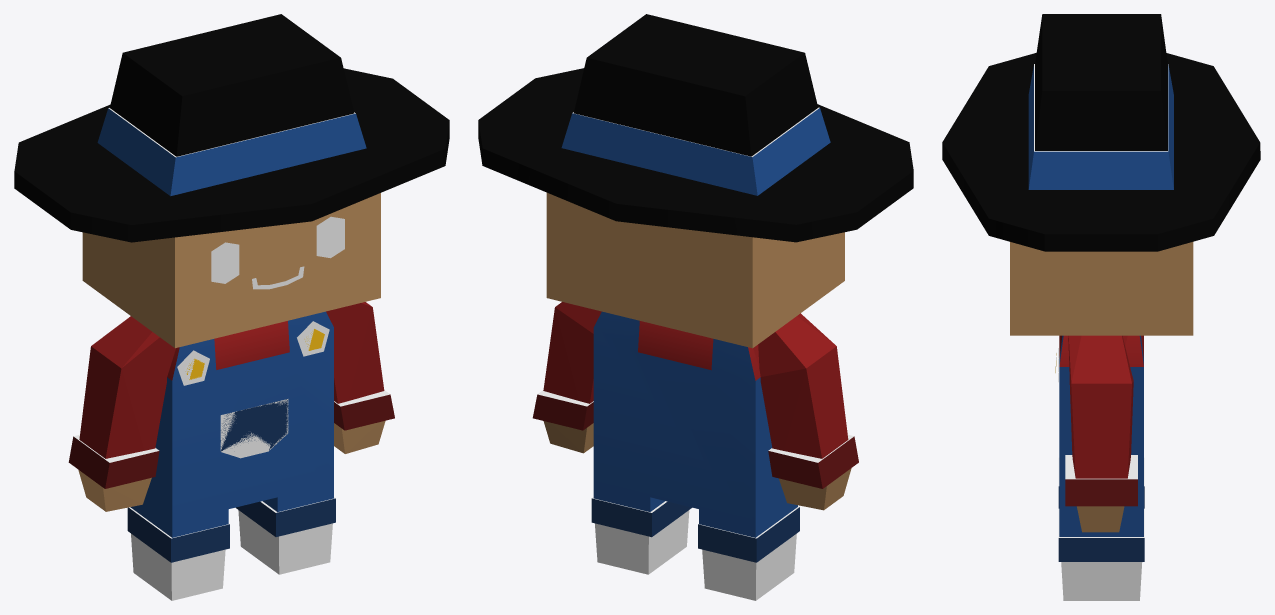
File: BaifoAnimaciones.fbx
3 renders of one model, left to right at view 1: azimuth 30°, elevation 25°; view 2: azimuth 150°, elevation 25°; view 3: azimuth 270°, elevation 25°, orthographic.
Visible parts, largest first — view 1: BaifoMorpher001; view 2: BaifoMorpher001; view 3: BaifoMorpher001.
Boxes of the visible parts, x1=… form: BaifoMorpher001: x1=14, y1=14, x2=449, y2=600; BaifoMorpher001: x1=478, y1=14, x2=913, y2=600; BaifoMorpher001: x1=942, y1=14, x2=1260, y2=600.
Size of the model in its own units: 0.6396 by 0.8269 by 0.4679.
